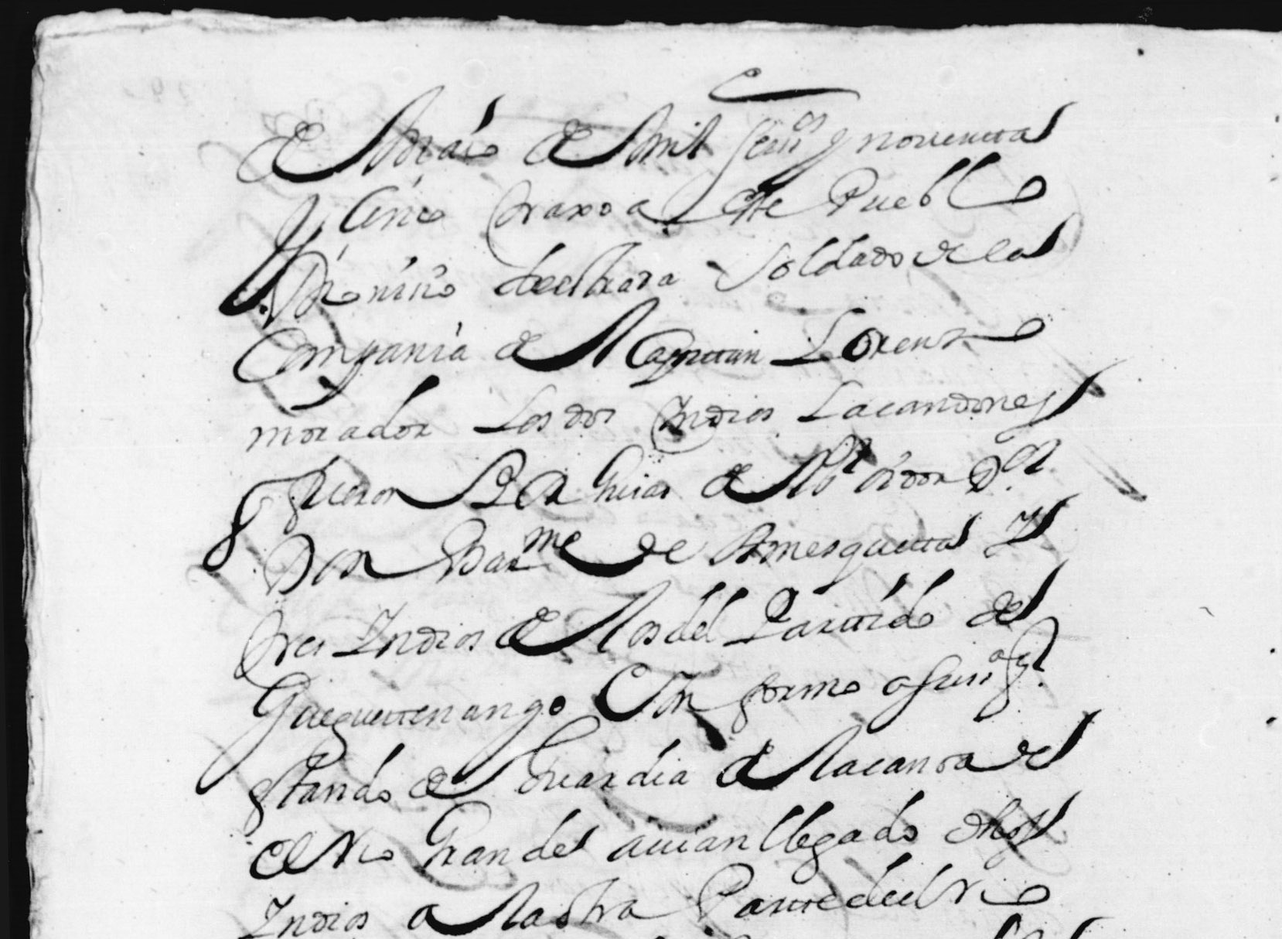lacandon: (796, 359, 1127, 443)
